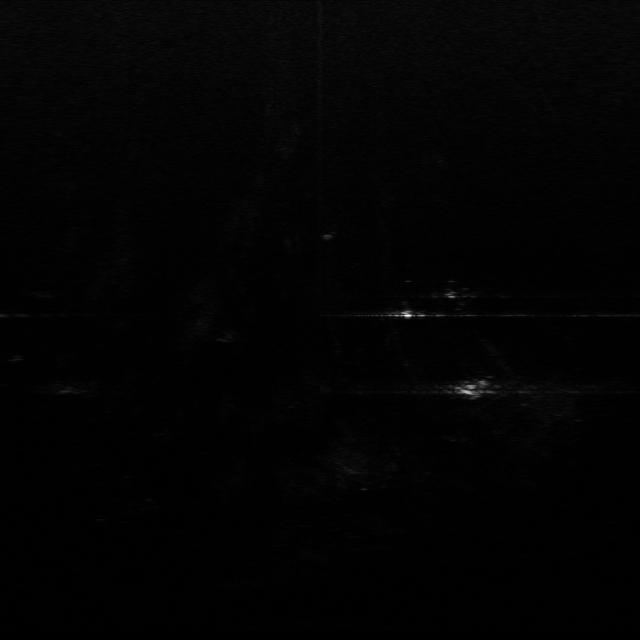rov: (454, 378, 494, 401)
